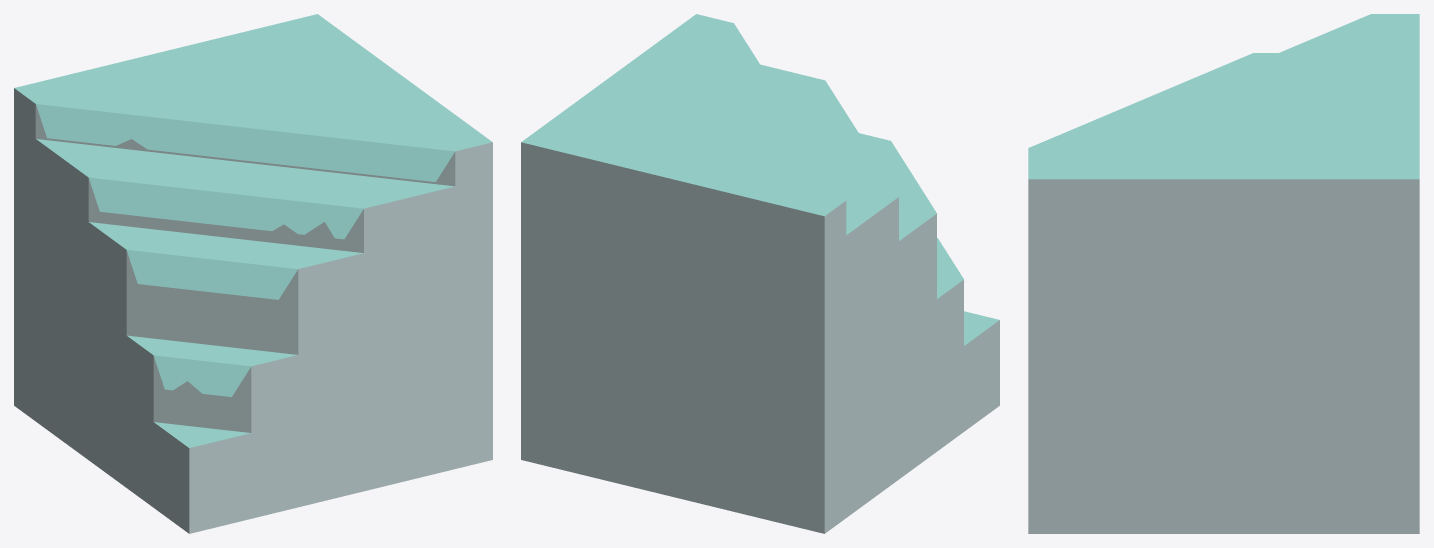
File: cliffGrey_stepsCornerInner.glb
3 views of the same model, side by side, from view 1: azimuth 30°, elevation 25°; view 2: azimuth 150°, elevation 25°; view 3: azimuth 270°, elevation 25° (orthographic). The views are drawn at different scales.
Visible parts, largest first — view 1: cliffGrey_stepsCornerInner; view 2: cliffGrey_stepsCornerInner; view 3: cliffGrey_stepsCornerInner.
Part boxes in pixels (left/top/right/bottom): cliffGrey_stepsCornerInner: left=14, top=14, right=492, bottom=533; cliffGrey_stepsCornerInner: left=521, top=14, right=999, bottom=533; cliffGrey_stepsCornerInner: left=1028, top=14, right=1419, bottom=533.
Bounding box in the file's own units: 1 × 1 × 1.
